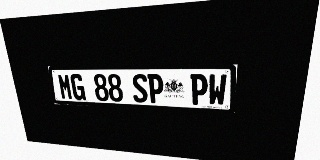8: (107, 74, 123, 102), (93, 74, 109, 101)
G: (70, 74, 86, 100)
M: (57, 74, 73, 100)
P: (190, 74, 208, 105), (147, 74, 164, 103)
S: (132, 74, 148, 103)
W: (208, 74, 227, 106)
